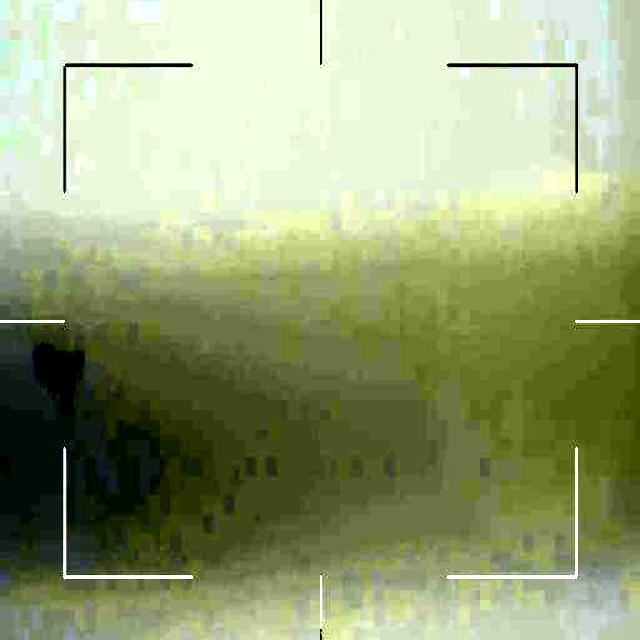bird: (35, 335, 100, 415)
